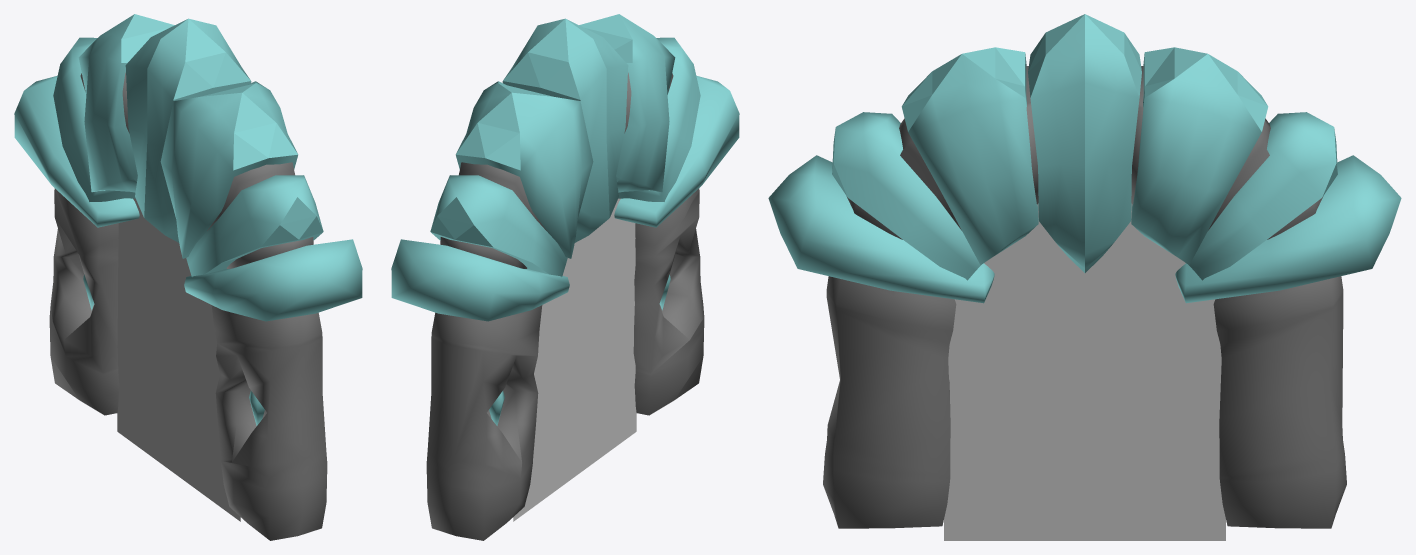
File: PortalFrame.fbx
The picture shows the model from 3 angles, left to right: view 1: azimuth 30°, elevation 25°; view 2: azimuth 150°, elevation 25°; view 3: azimuth 270°, elevation 25°; orthographic projection. The views are drawn at different scales.
Visible parts, largest first — view 1: Cube, Cube.001; view 2: Cube, Cube.001; view 3: Cube, Cube.001.
Boxes of the visible parts, x1=… form: Cube: x1=14, y1=14, x2=362, y2=540; Cube.001: x1=117, y1=198, x2=240, y2=521; Cube: x1=391, y1=14, x2=739, y2=540; Cube.001: x1=513, y1=198, x2=636, y2=521; Cube: x1=768, y1=14, x2=1401, y2=528; Cube.001: x1=944, y1=204, x2=1225, y2=540.
Bounding box in the file's own units: 349 × 1304 × 1434.
